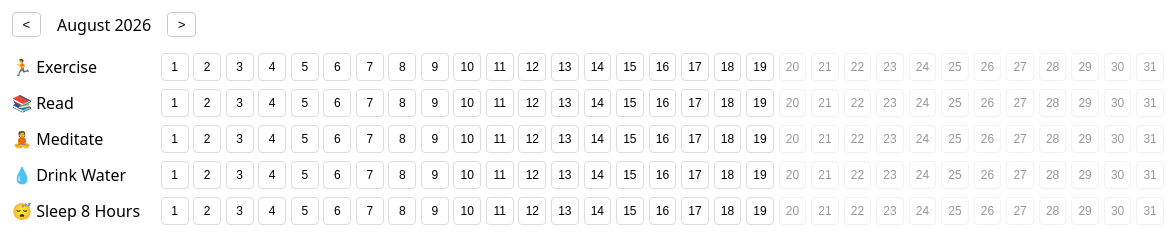
Test: MonthGrid › clicking Prev moves the header back a month
The width and height of the screenshot is (1176, 242).
Click the button named "Previous month": (26, 24) [12,12,41,37]
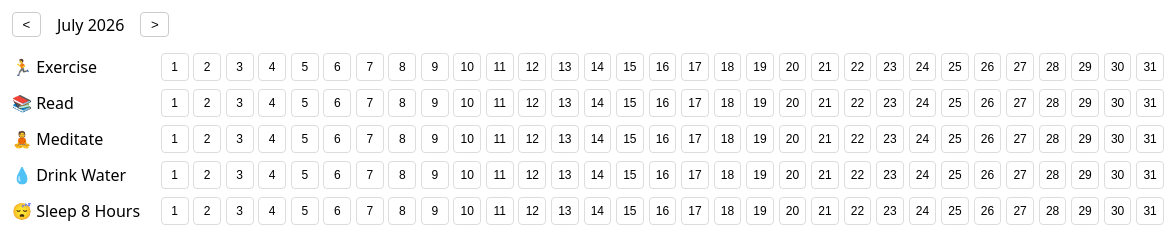
Now the text "July 2026" is shown, box [57,14,124,36]
